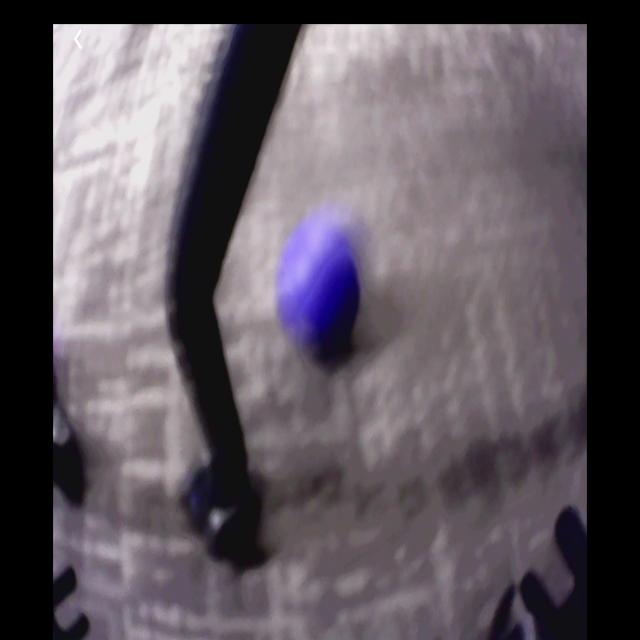ball: (278, 214, 359, 354)
